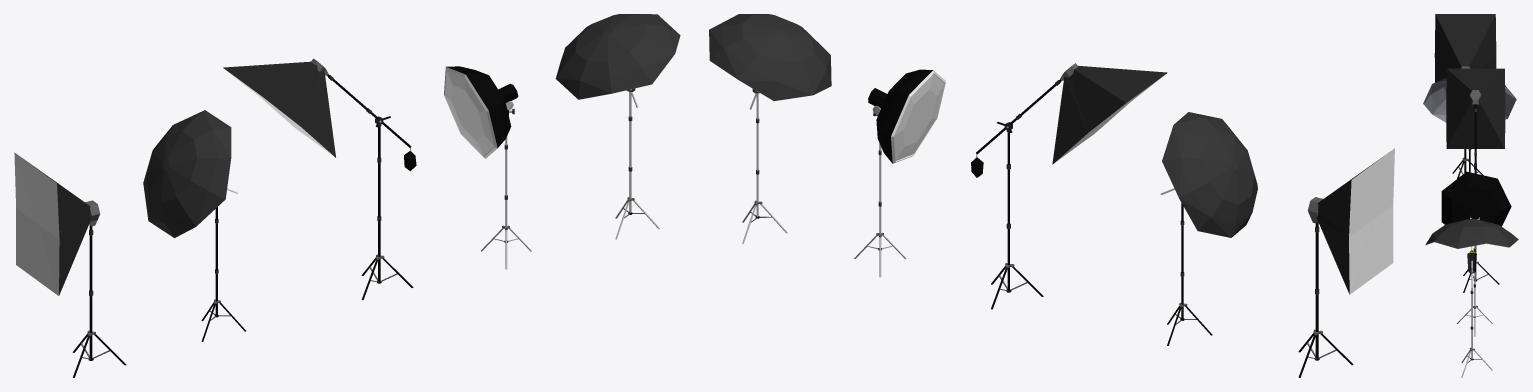
File: Equipo.fbx
3 renders of one model, left to right at view 1: azimuth 30°, elevation 25°; view 2: azimuth 150°, elevation 25°; view 3: azimuth 270°, elevation 25°, orthographic. The views are drawn at different scales.
Parts seen in each view (by area): view 1: Um.Flash.02, Um.Flash.01, SoftBox.02, SoftBox.03, Flash.04; view 2: Um.Flash.02, Um.Flash.01, SoftBox.02, SoftBox.03, Flash.04; view 3: SoftBox.03, SoftBox.02, Flash.04, Um.Flash.01, Um.Flash.02.
Part boxes in pixels (x1,y1,x2,y2): Um.Flash.02: (143,110,245,341); Um.Flash.01: (555,14,680,239); SoftBox.02: (14,152,126,377); SoftBox.03: (223,58,416,300); Flash.04: (444,66,531,269); Um.Flash.02: (1160,112,1257,345); Um.Flash.01: (709,14,831,243); SoftBox.02: (1298,148,1394,377); SoftBox.03: (971,63,1167,309); Flash.04: (854,69,945,277); SoftBox.03: (1446,68,1505,292); SoftBox.02: (1434,14,1496,178); Flash.04: (1441,171,1511,336); Um.Flash.01: (1425,219,1518,377); Um.Flash.02: (1423,78,1516,172).
Bounding box in the file's own units: 759 × 276 × 139.
1 material, 1 textured.
